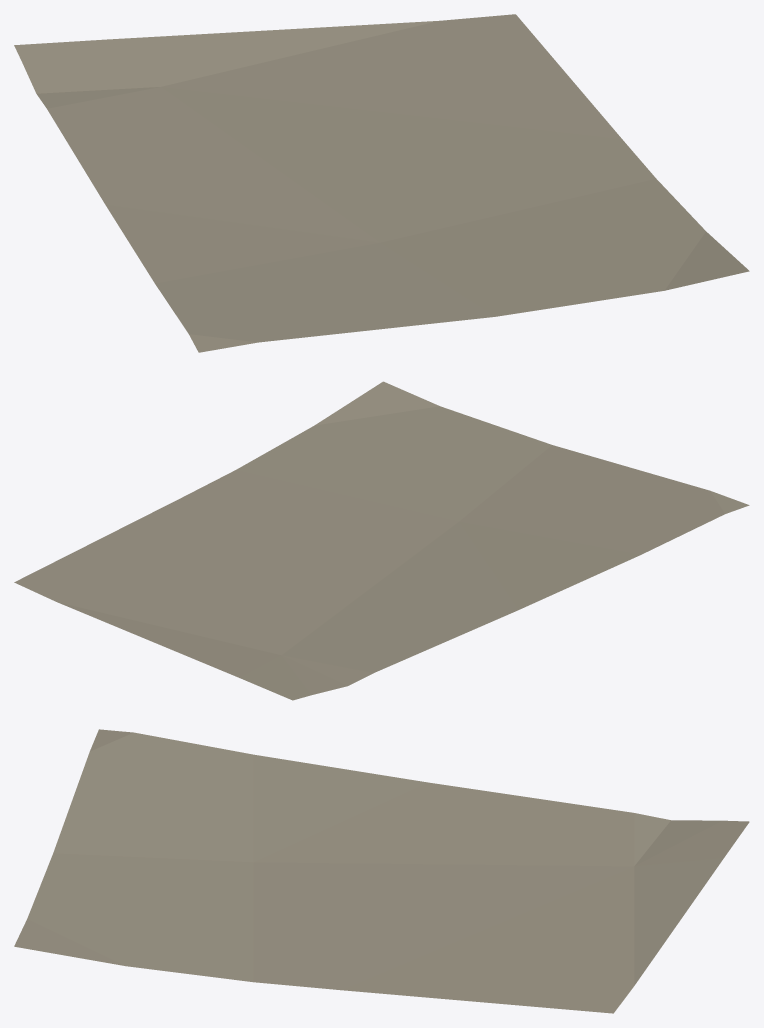
Rendered from farm_2_16_soil.glb.
3 renders of one model, top to bottom at view 1: azimuth 30°, elevation 25°; view 2: azimuth 150°, elevation 25°; view 3: azimuth 270°, elevation 25°, orthographic. The views are drawn at different scales.
Visible parts, largest first — view 1: geometry_0; view 2: geometry_0; view 3: geometry_0.
Part boxes in pixels (box(x1,y1,x2,y2)): geometry_0: box(14, 14, 749, 352); geometry_0: box(14, 381, 749, 700); geometry_0: box(14, 729, 749, 1013).
Size of the model in its own units: 129 by 5.92 by 155.
